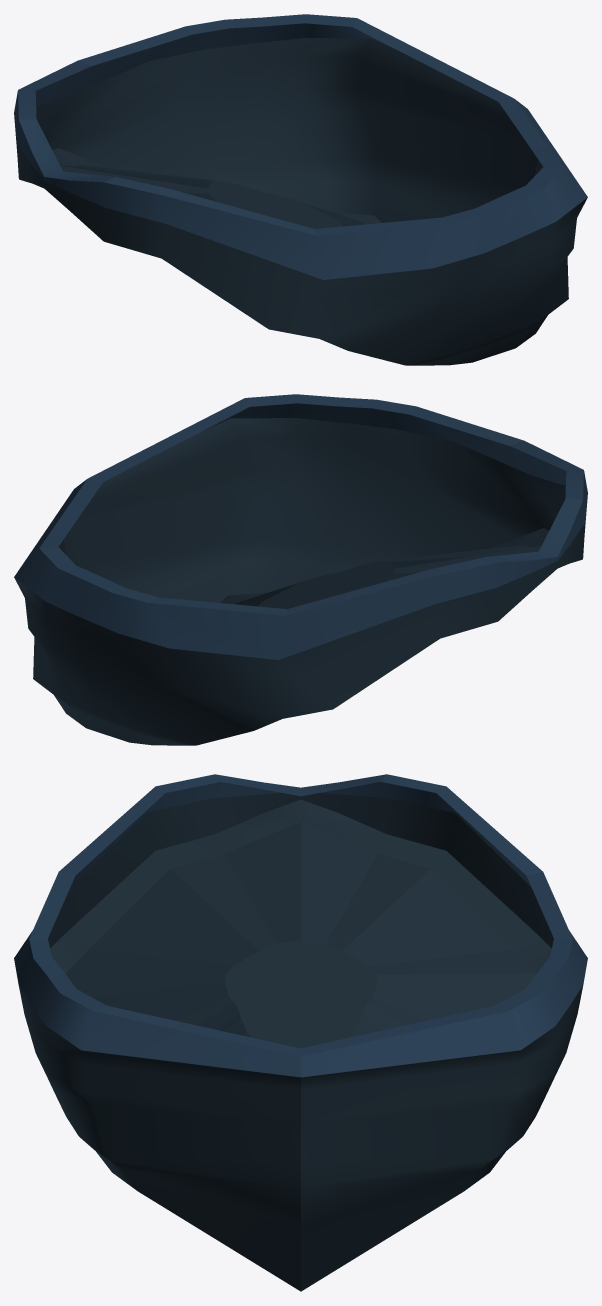
File: Bandanna.fbx
3 views of the same model, one above another, from view 1: azimuth 30°, elevation 25°; view 2: azimuth 150°, elevation 25°; view 3: azimuth 270°, elevation 25° (orthographic).
Visible parts, largest first — view 1: polySurface2; view 2: polySurface2; view 3: polySurface2.
Boxes of the visible parts, <box> form: polySurface2: <box>14,14,587,365</box>; polySurface2: <box>14,394,587,745</box>; polySurface2: <box>14,774,587,1291</box>.
Bounding box in the file's own units: 2.43 × 1.4 × 2.4.
